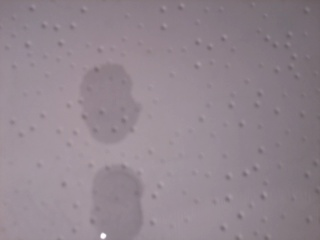Water_detected: (74, 69, 133, 134), (98, 174, 138, 234)
